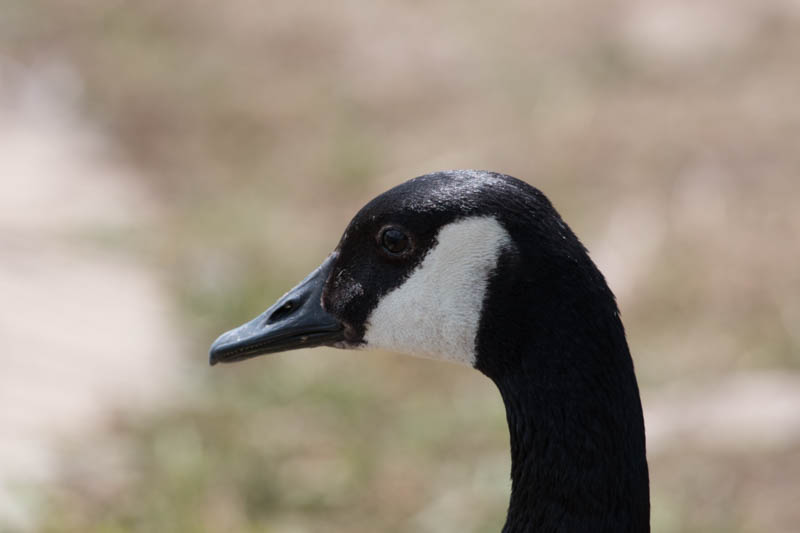goose-head: (208, 170, 616, 375)
